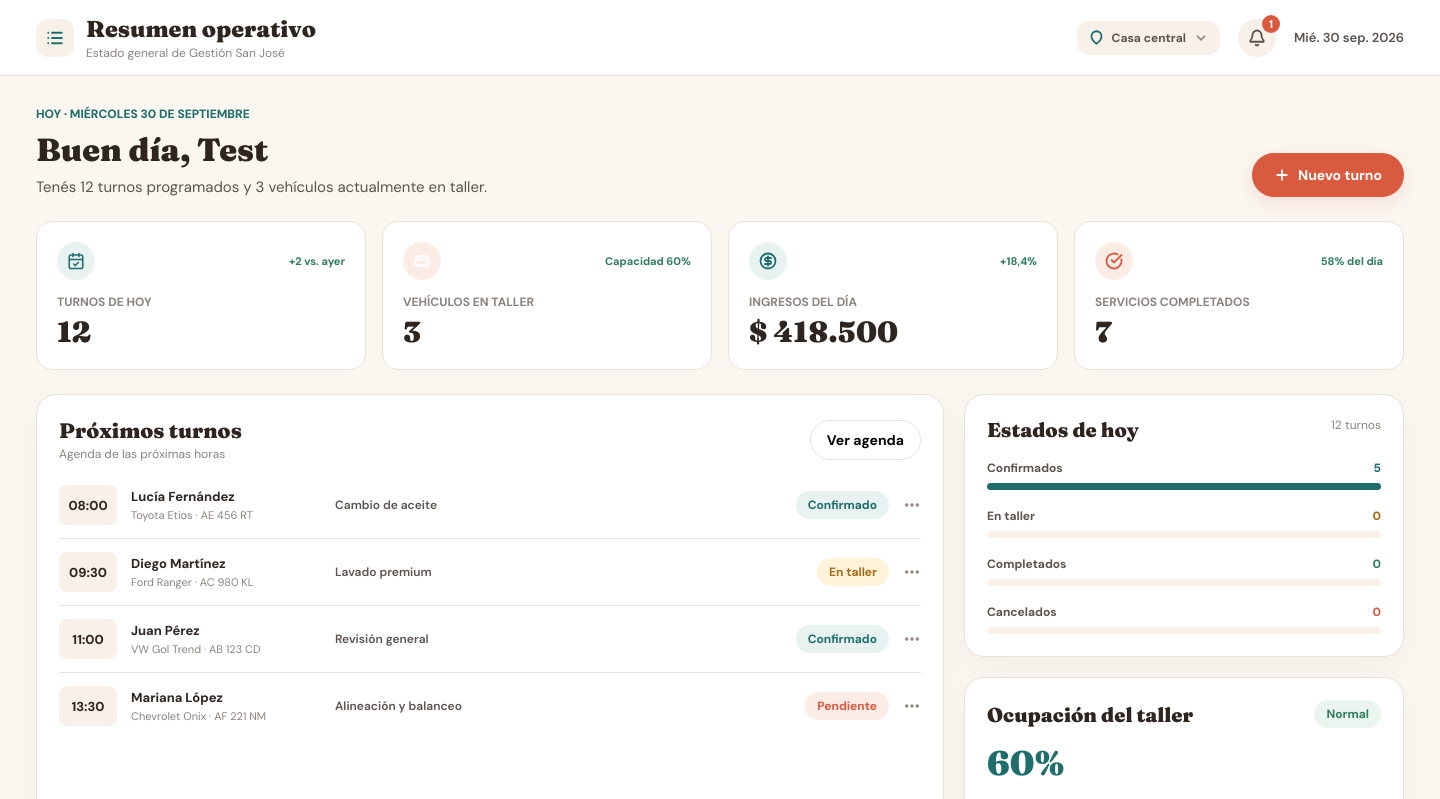
Scenario: Panel de correos › se abre desde el menú y deja el menú lateral plegado
Expected: the text "Resumen operativo" is shown, 86,14 -> 316,42
Click the button named "desplegar el menú" at (55, 38), box 36,18 -> 74,56
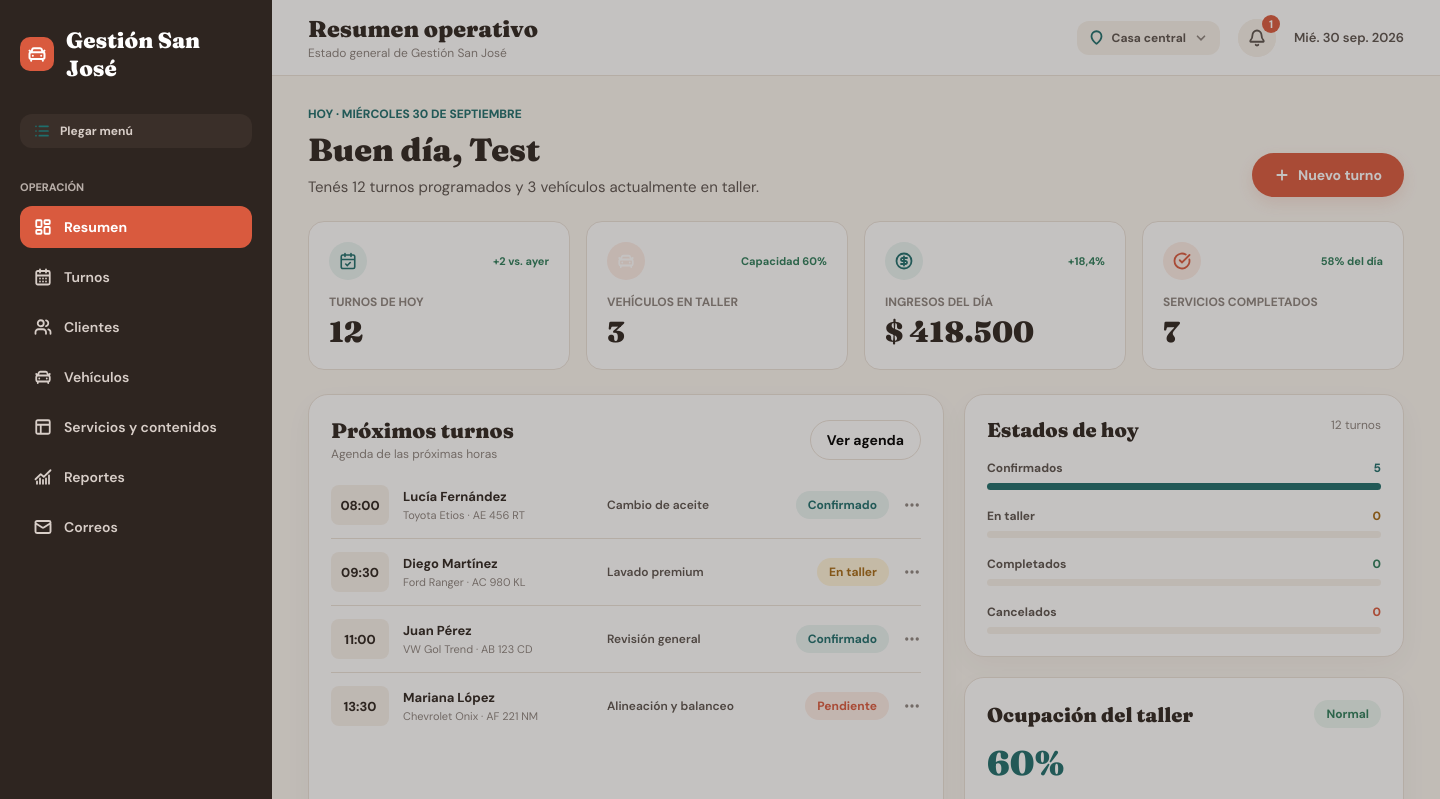
Click the link "Correos" at (76, 527), box 34,518 -> 118,536
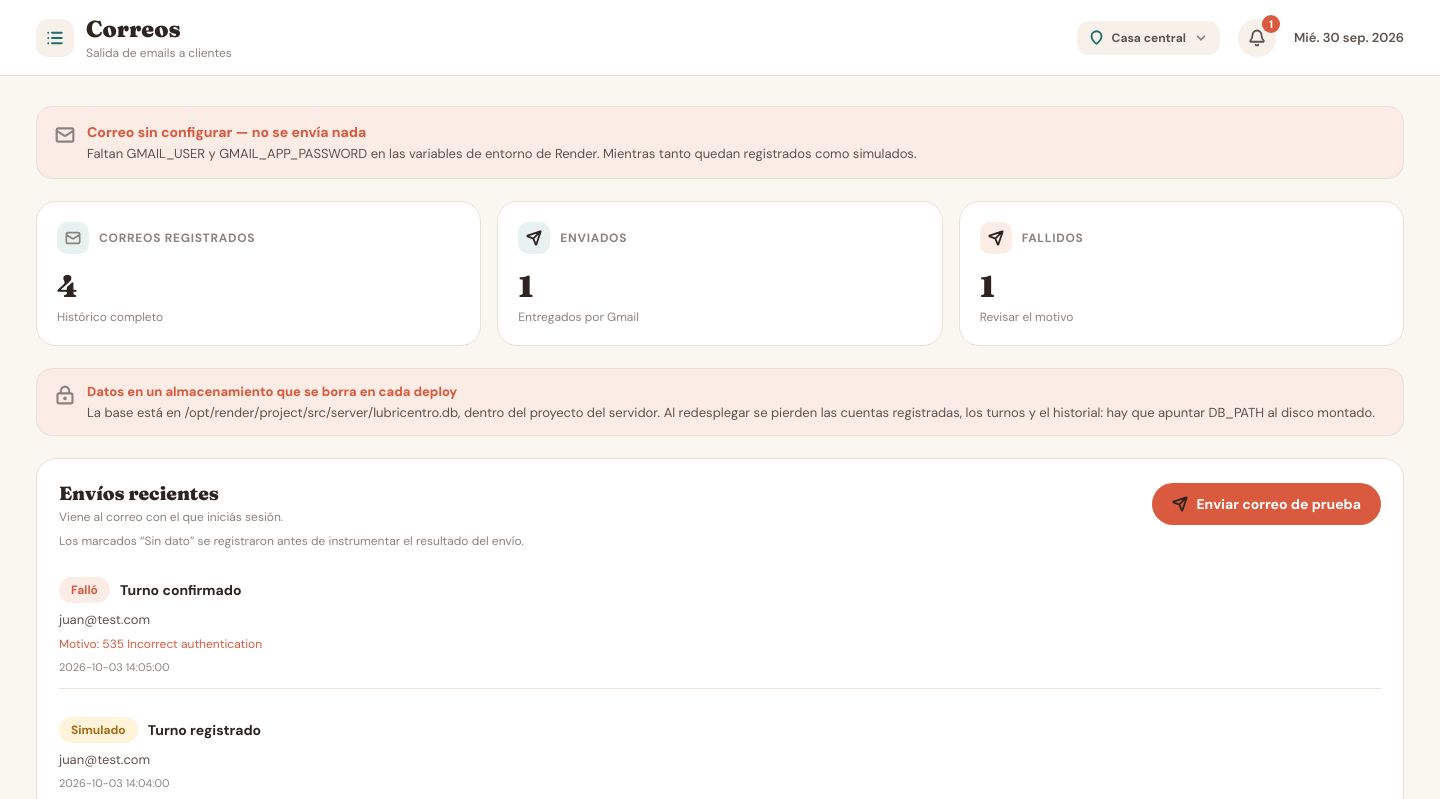
Now the text "Salida de emails a clientes" is shown, box 86,44 -> 232,60
Now the button named "desplegar el menú" is shown, box 36,18 -> 74,56
